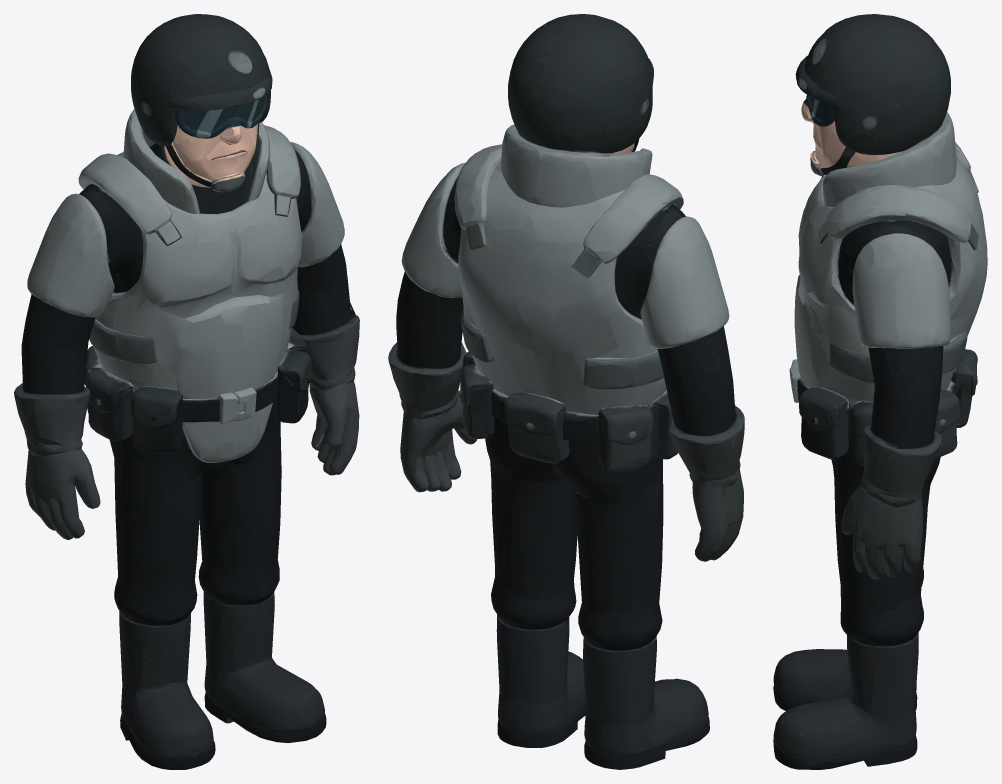
File: agencyguard.glb
The picture shows the model from 3 angles, left to right: view 1: azimuth 30°, elevation 25°; view 2: azimuth 150°, elevation 25°; view 3: azimuth 270°, elevation 25°; orthographic projection. The views are drawn at different scales.
Bounding box in the file's own units: 0.9595 × 1.9 × 0.5229.
Materials: 1 (1 with a texture image).
